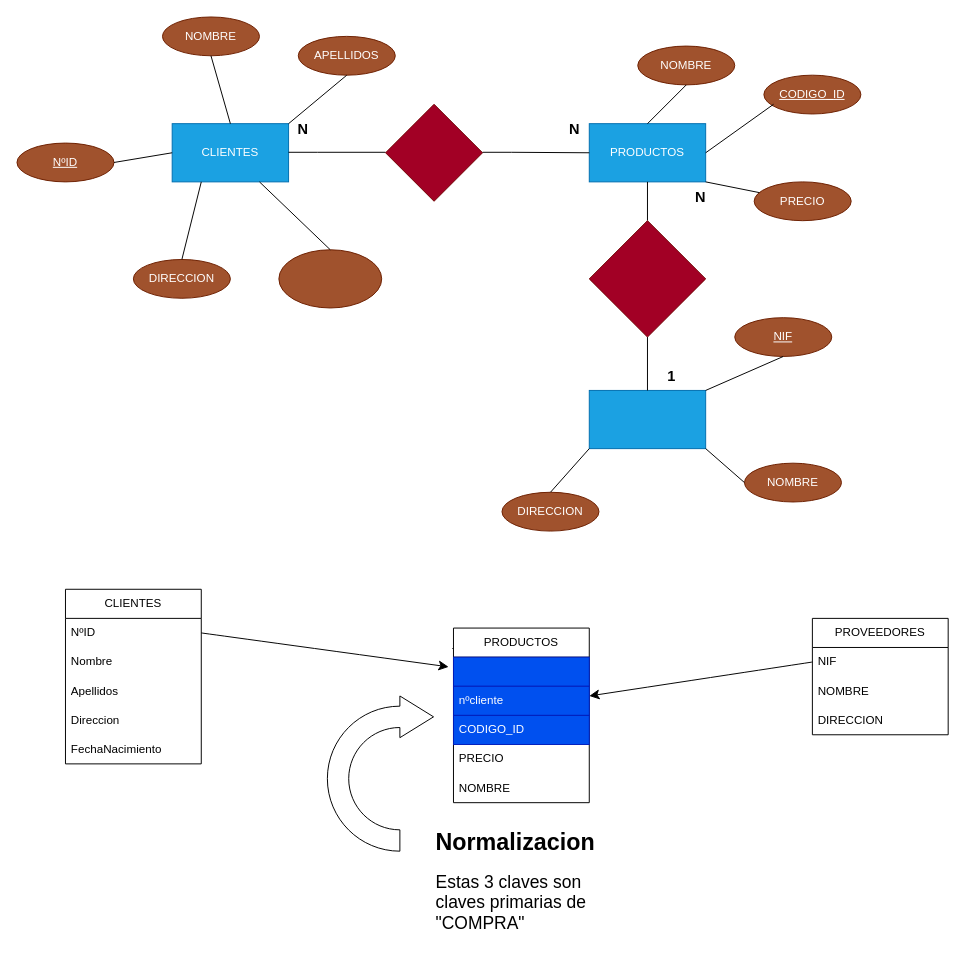
This 965x958 diagram has some shape labels left out. Each missing label, with the centre of its shape:
"COMPRA" belongs at [434,152].
"FECHA NACIMIENTO" belongs at [330,278].
"nºcompra" belongs at [521,671].
"PROPORCIONAN" belongs at [647,278].
"PROVEEDOR" belongs at [647,419].
